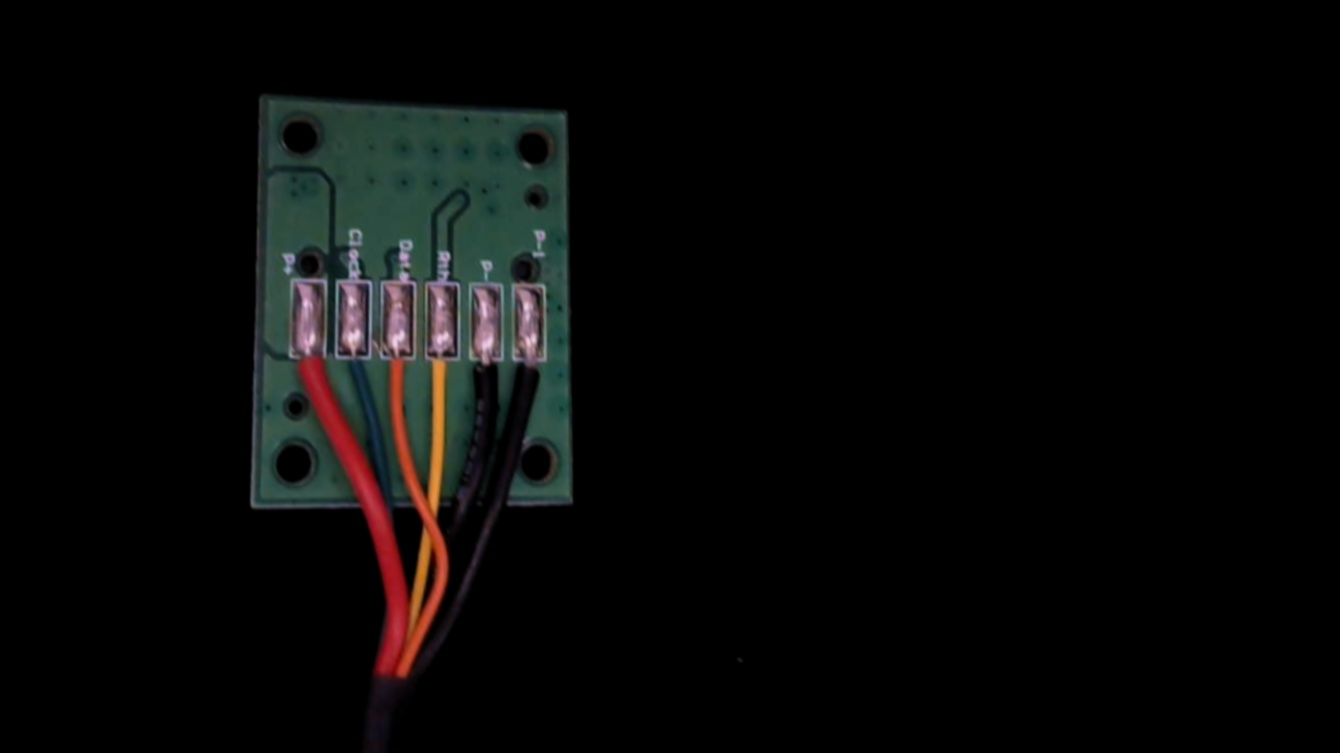Black: (464, 333, 503, 423)
Black1: (512, 337, 551, 420)
Green: (336, 328, 371, 401)
Orange: (380, 329, 417, 418)
Red: (287, 333, 323, 408)
Yellow: (422, 331, 461, 422)
